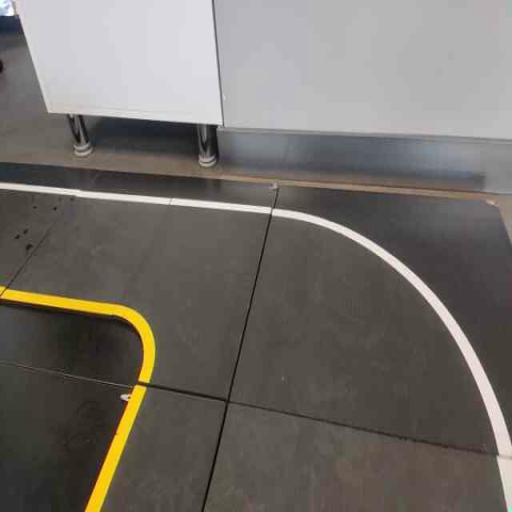left: (117, 182, 511, 459)
